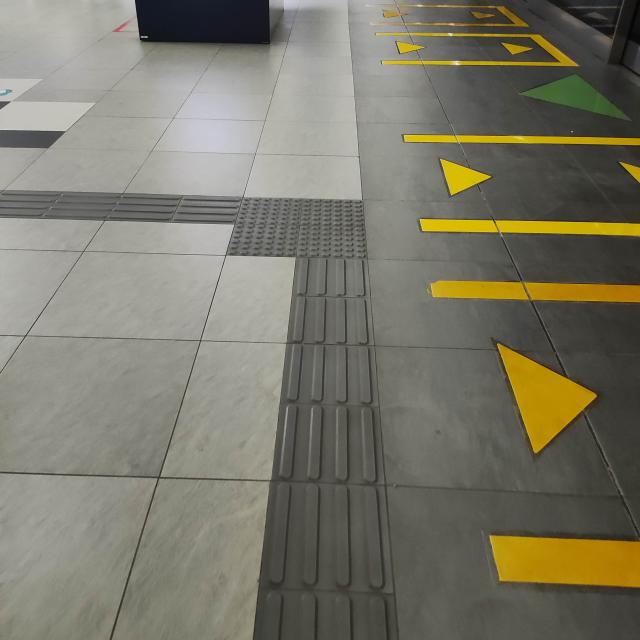kiri: (138, 160, 418, 324)
